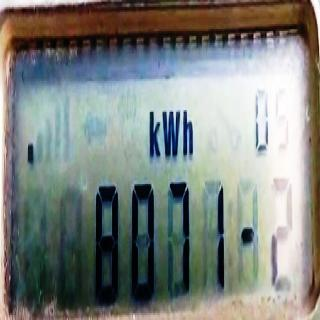-: (240, 223, 255, 248), (26, 140, 34, 167)
0: (127, 176, 158, 306), (252, 77, 270, 162)
1: (212, 179, 232, 297)
2: (267, 167, 298, 300)
5: (273, 80, 292, 156)
7: (168, 176, 197, 304)
8: (92, 172, 122, 317)
